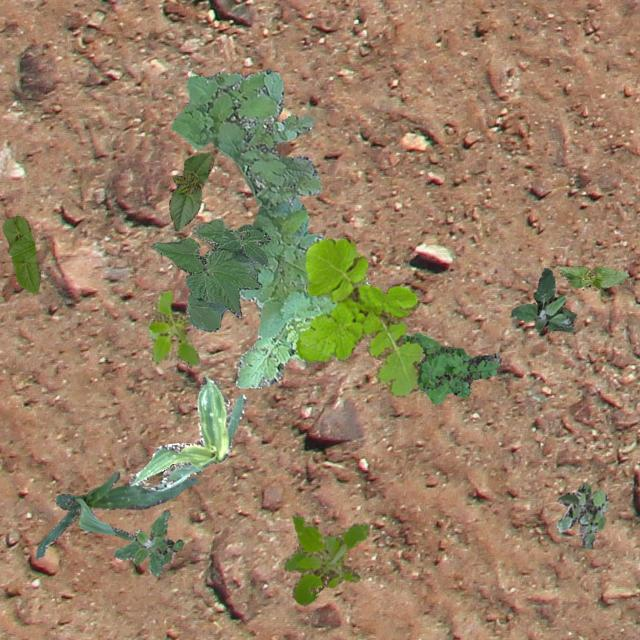crop: (35, 471, 196, 558), (128, 376, 246, 490), (150, 218, 268, 330), (168, 152, 214, 230), (1, 215, 40, 292), (558, 264, 628, 288)
weed: (170, 68, 368, 388), (294, 236, 424, 396), (278, 514, 368, 604), (400, 332, 500, 402), (112, 508, 182, 576), (510, 268, 576, 332), (146, 288, 198, 366), (556, 482, 608, 548)
